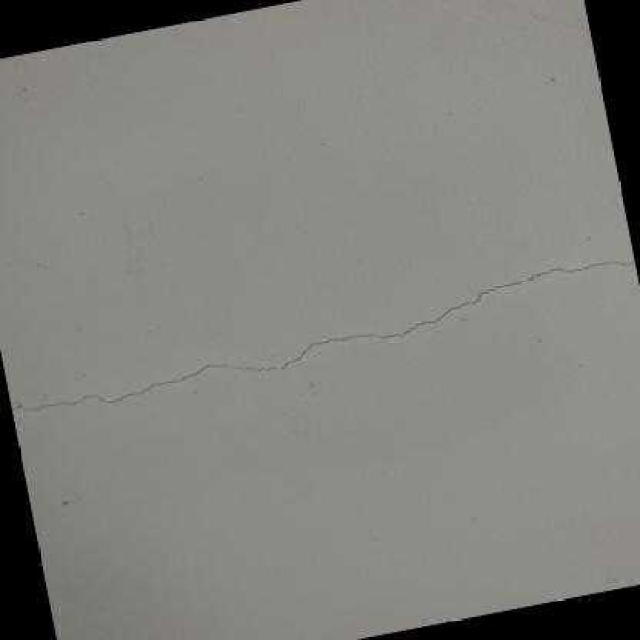D00: (11, 259, 634, 410)
